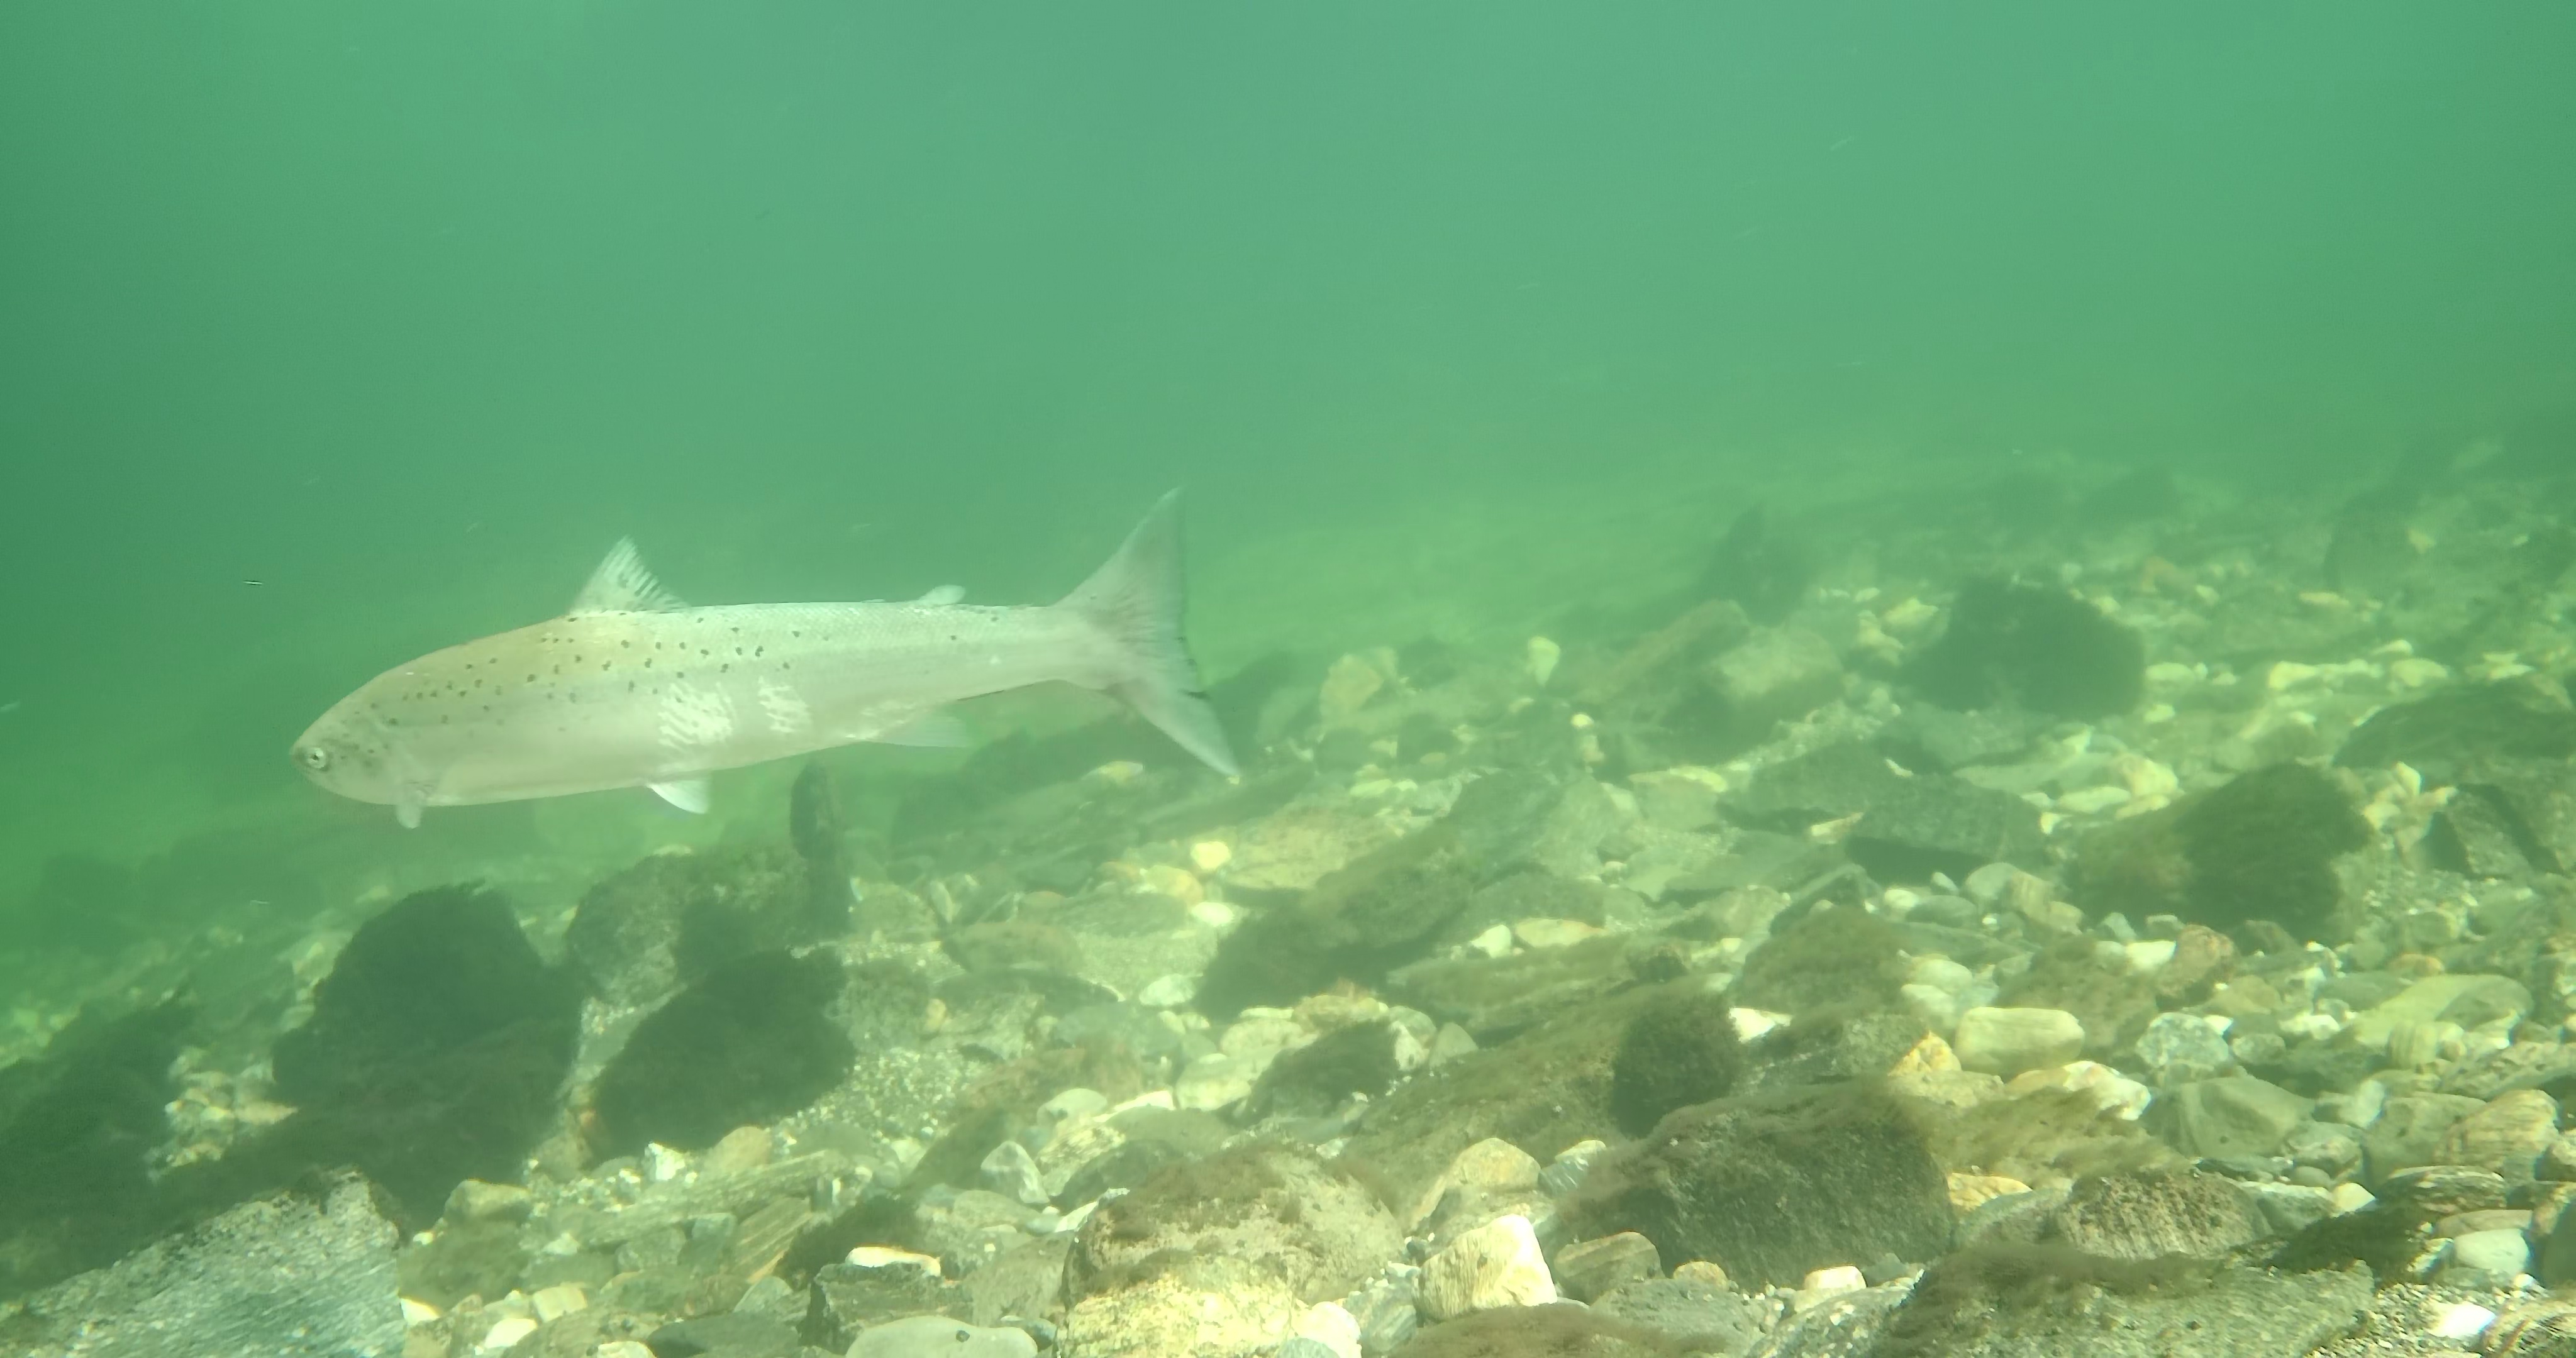salmon: (286, 484, 1247, 833)
